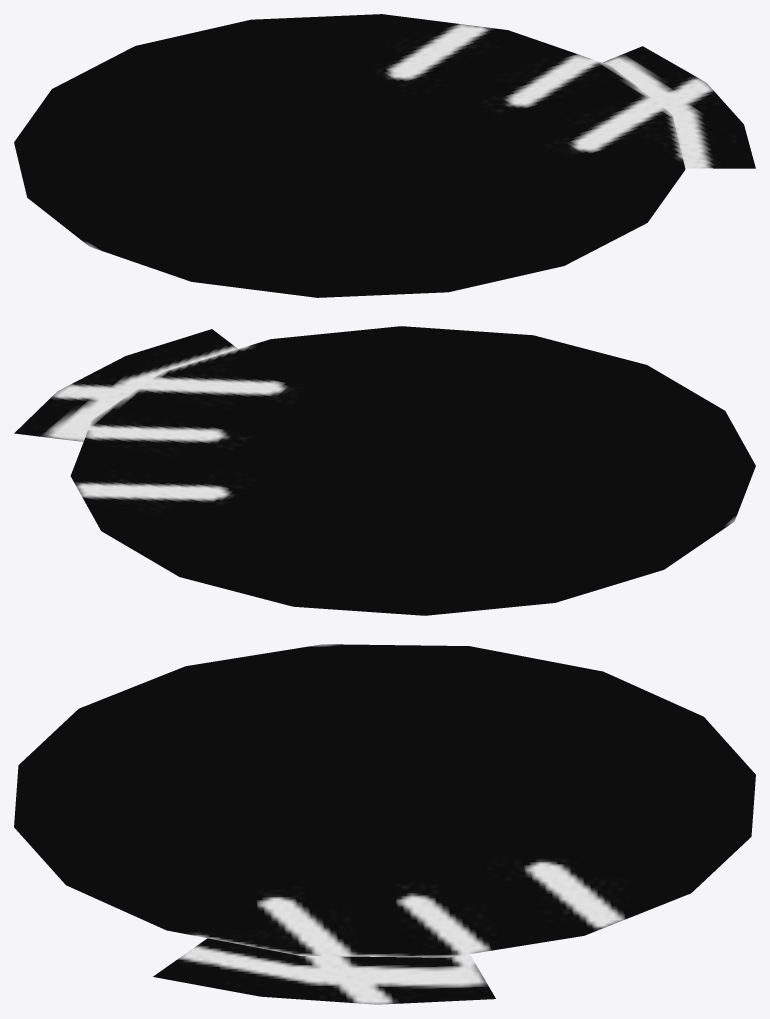
Rendered from yiz08.obj.
3 views of the same model, one above another, from view 1: azimuth 30°, elevation 25°; view 2: azimuth 150°, elevation 25°; view 3: azimuth 270°, elevation 25° (orthographic). The views are drawn at different scales.
Visible parts, largest first — view 1: yiz08; view 2: yiz08; view 3: yiz08.
Part boxes in pixels (box(x1,y1,x2,y2)): yiz08: box(14, 14, 755, 297); yiz08: box(14, 326, 755, 615); yiz08: box(14, 644, 755, 1004).
Size of the model in its own units: 549 by 8.4 by 493.
